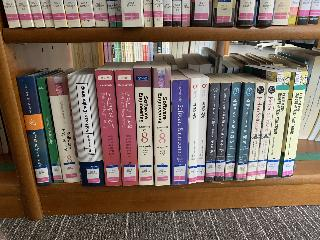book-spine: (69, 72, 106, 188), (16, 73, 52, 187), (47, 75, 81, 184), (95, 69, 122, 187), (280, 70, 308, 179), (264, 70, 291, 180), (114, 70, 139, 186), (37, 77, 63, 183), (134, 67, 155, 185), (255, 82, 277, 181), (246, 82, 266, 182), (171, 79, 189, 185), (154, 68, 170, 186), (236, 82, 255, 181), (224, 81, 242, 182), (204, 82, 221, 182), (214, 82, 230, 181), (195, 77, 209, 182), (188, 78, 200, 184)
